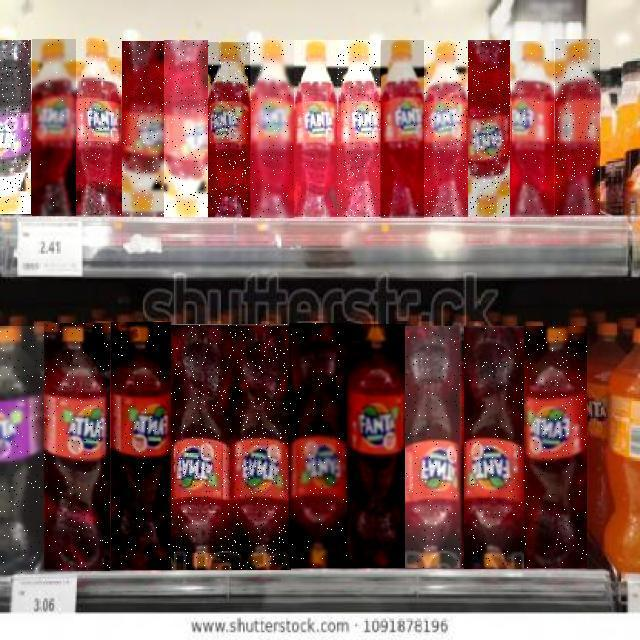Drinks: (45, 323, 111, 571), (524, 326, 587, 568), (171, 324, 232, 570), (111, 322, 171, 570), (464, 326, 524, 569), (232, 324, 291, 570), (289, 323, 348, 568), (347, 324, 405, 568), (406, 327, 464, 569), (0, 326, 45, 574), (76, 36, 121, 216), (555, 39, 600, 215), (32, 39, 76, 216), (164, 40, 208, 217), (424, 41, 468, 217), (251, 40, 294, 218), (294, 40, 337, 218), (337, 40, 380, 218), (381, 40, 424, 218), (468, 40, 510, 217), (208, 42, 250, 218), (512, 41, 554, 217), (122, 42, 164, 216), (0, 41, 31, 215)
